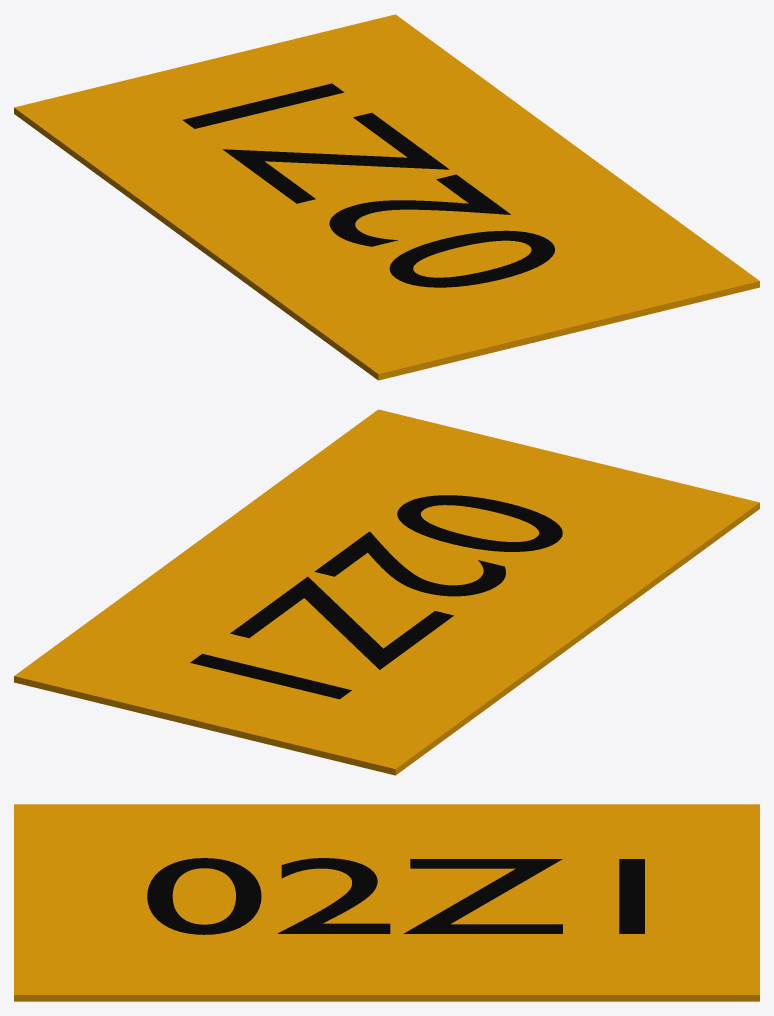
The picture shows the model from 3 angles, top to bottom: view 1: azimuth 30°, elevation 25°; view 2: azimuth 150°, elevation 25°; view 3: azimuth 270°, elevation 25°; orthographic projection. The views are drawn at different scales.
Parts seen in each view (by area): view 1: Plane, Text.001; view 2: Plane, Text.001; view 3: Plane, Text.001.
Part boxes in pixels (x1=…): Plane: x1=14, y1=14, x2=759, y2=380; Text.001: x1=183, y1=83, x2=554, y2=287; Plane: x1=14, y1=409, x2=759, y2=775; Text.001: x1=190, y1=495, x2=562, y2=699; Plane: x1=14, y1=804, x2=759, y2=1001; Text.001: x1=147, y1=858, x2=644, y2=934.
Bounding box in the file's own units: 194 × 3.74 × 320.
